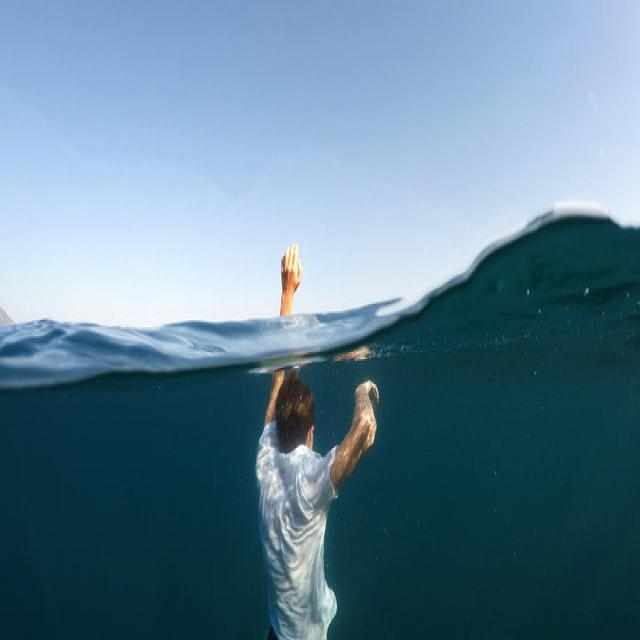Out of Water: (253, 240, 381, 628)
